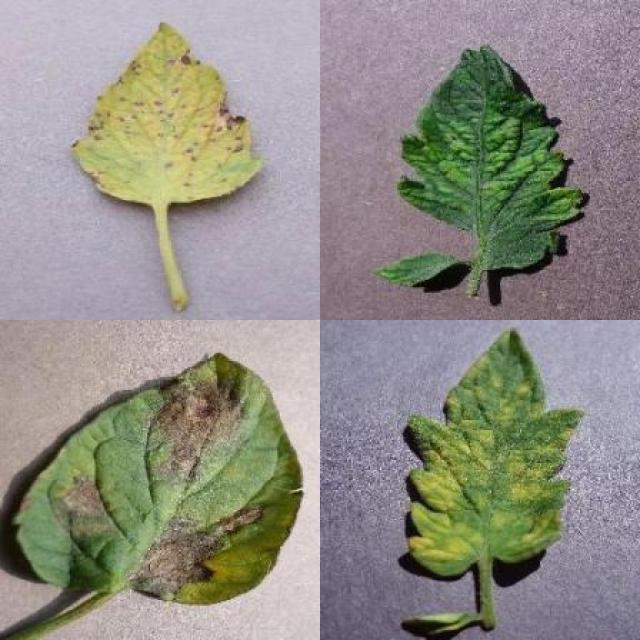Late Blight: (13, 351, 306, 606)
Leaf Mold: (404, 325, 586, 578)
Mosaic Virus: (392, 44, 582, 272)
Septoria: (70, 22, 263, 205)
